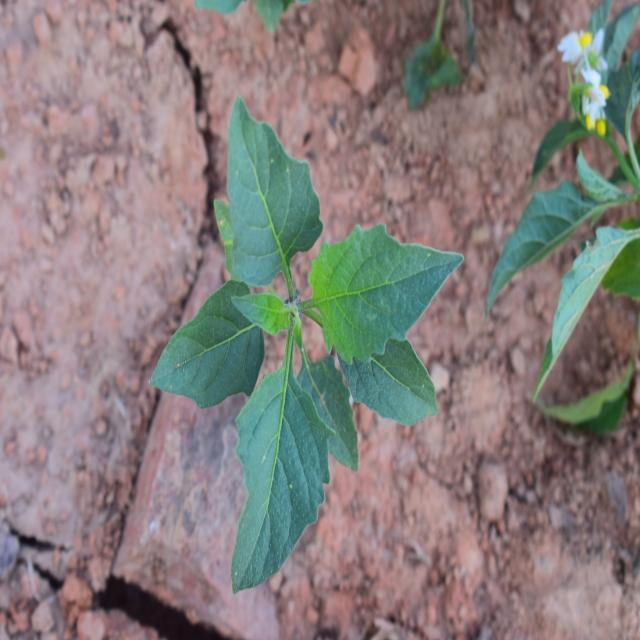Black_nightshade: (172, 103, 450, 551)
